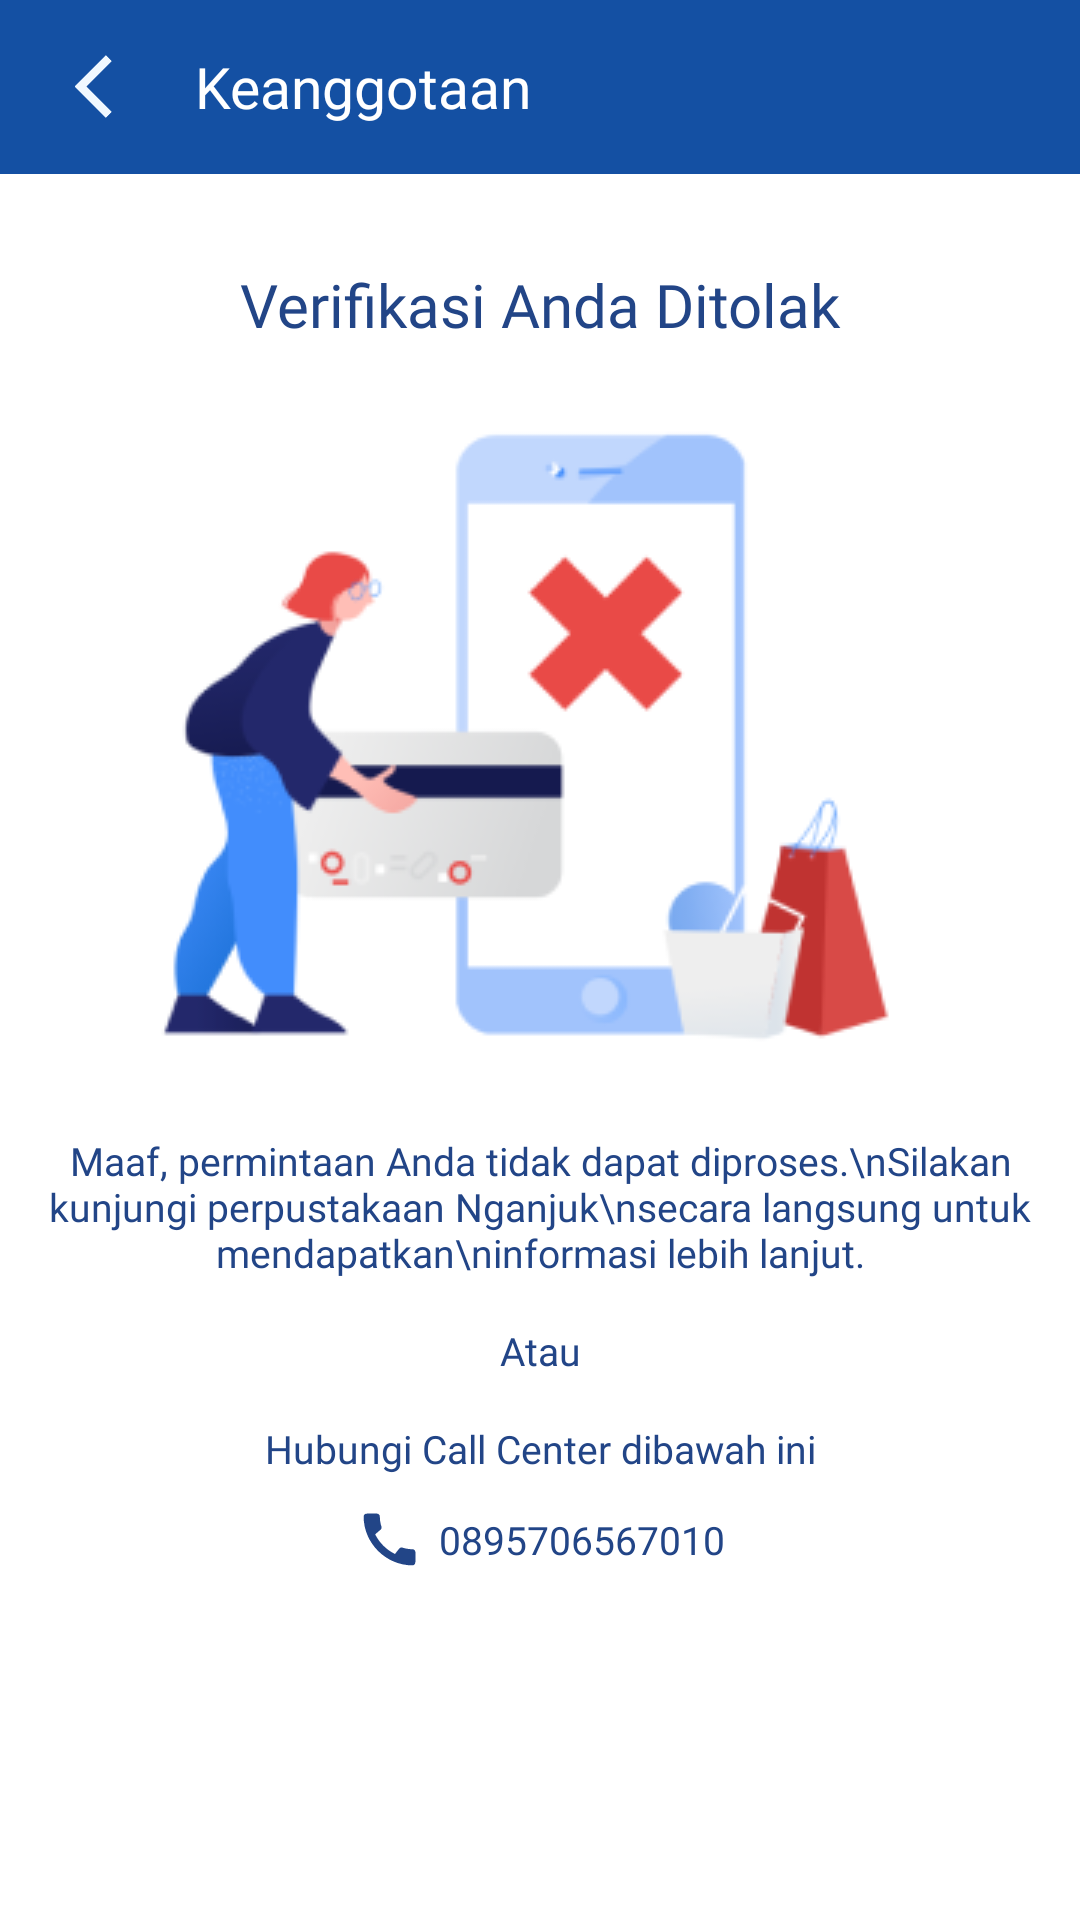

Icons on this 1080×1920 Android screen, each with the point to tap as point (x, y):
Kembali: point (93, 86)
telp: point (389, 1539)
